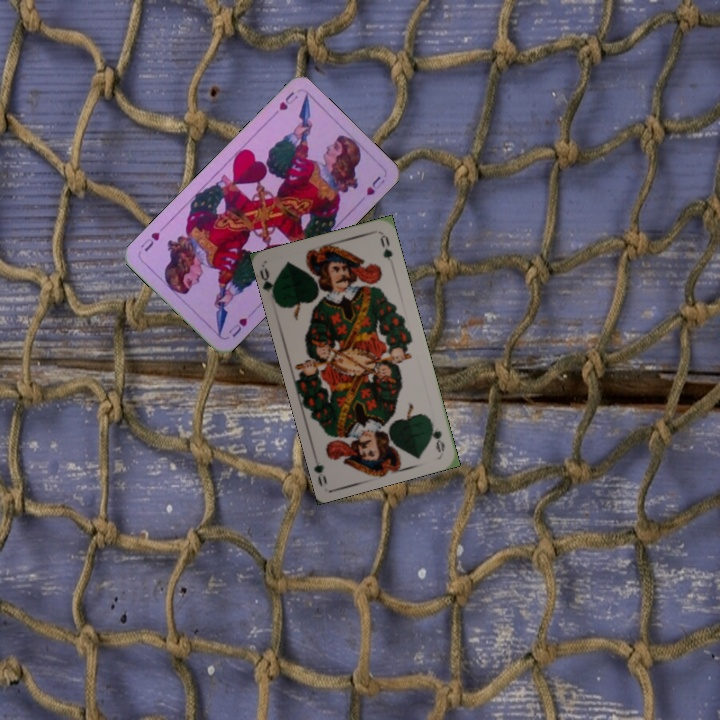GO: (257, 265, 279, 304), (426, 415, 447, 455)
HU: (267, 87, 301, 120), (224, 314, 250, 340)
